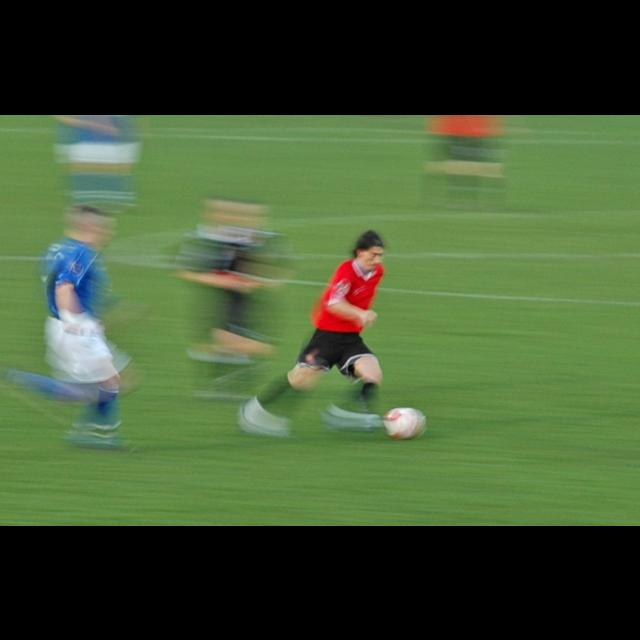Football: (379, 406, 429, 439)
